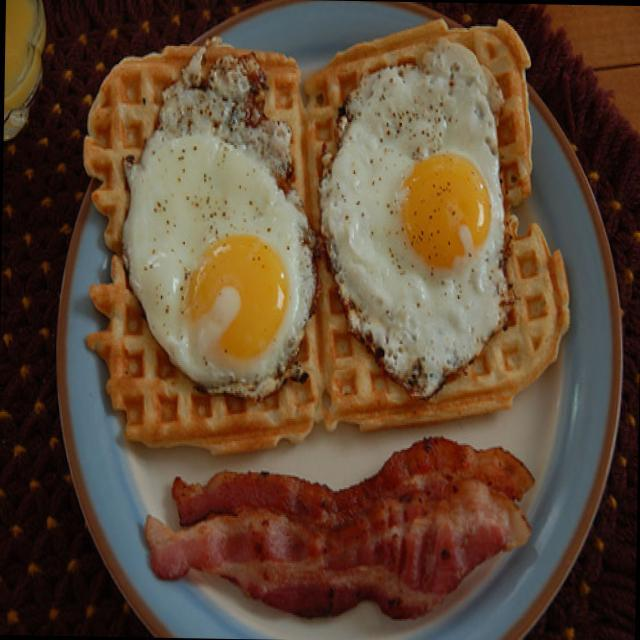Egg: (314, 31, 508, 395), (123, 42, 313, 374)
